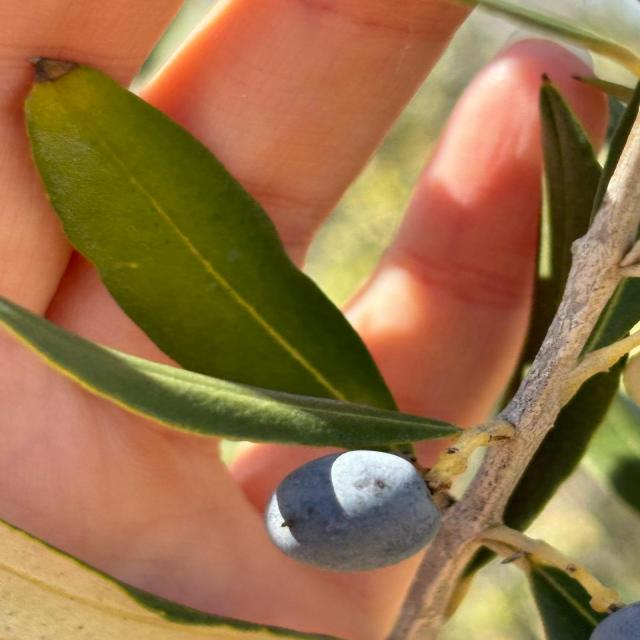Healthy: (264, 450, 441, 572)
